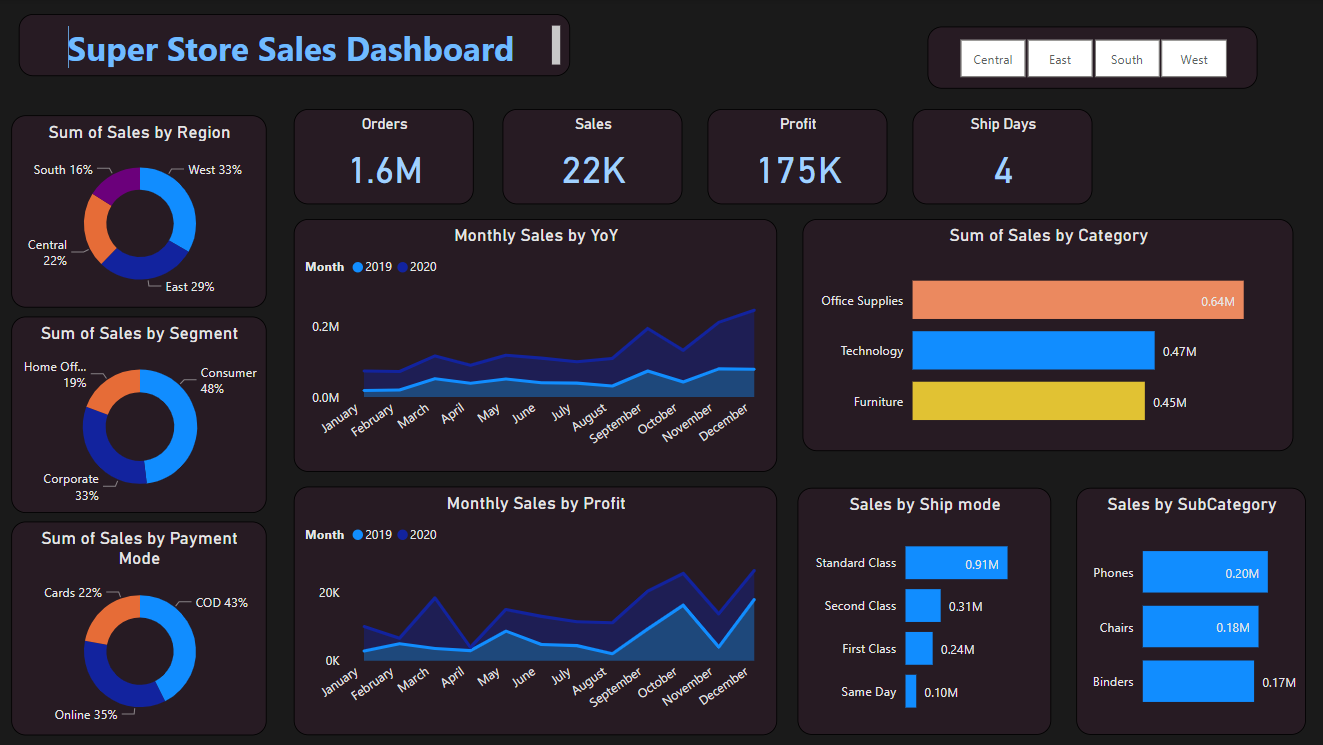

What the dashboard file says about the page in this screenshot:
{"tool":"powerbi","page":{"name":"Page 1","canvas":[1280,720],"ordinal":0},"visuals":[{"type":"clusteredBarChart","title":"Sales by SubCategory","fields":{"Category":["SuperStore_Sales_Dataset.Sub-Category"],"Y":["Sum(SuperStore_Sales_Dataset.Sales)"]},"box":[1038.4,471.6,221.9,238.8],"z":0},{"type":"clusteredBarChart","title":"Sales by Ship mode","fields":{"Category":["SuperStore_Sales_Dataset.Ship Mode"],"Y":["Sum(SuperStore_Sales_Dataset.Sales)"]},"box":[769.4,471.6,244.8,238.8],"z":1000},{"type":"stackedAreaChart","title":" Monthly Sales by YoY","fields":{"Y":["Sum(SuperStore_Sales_Dataset.Sales)"],"Category":["SuperStore_Sales_Dataset.Order Date.Variation.Date Hierarchy.Month","SuperStore_Sales_Dataset.Order Date.Variation.Date Hierarchy.Day"],"Series":["SuperStore_Sales_Dataset.Order Date.Variation.Date Hierarchy.Year"]},"box":[283.4,212.3,466.7,243.6],"z":2000},{"type":"stackedAreaChart","title":" Monthly Sales by Profit","fields":{"Category":["SuperStore_Sales_Dataset.Order Date.Variation.Date Hierarchy.Month","SuperStore_Sales_Dataset.Order Date.Variation.Date Hierarchy.Day"],"Series":["SuperStore_Sales_Dataset.Order Date.Variation.Date Hierarchy.Year"],"Y":["Sum(SuperStore_Sales_Dataset.Profit)"]},"box":[283.4,470.4,466.7,240],"z":3000},{"type":"clusteredBarChart","fields":{"Category":["SuperStore_Sales_Dataset.Category"],"Y":["Sum(SuperStore_Sales_Dataset.Sales)"]},"box":[774.3,212.3,474,224.3],"z":4000},{"type":"donutChart","fields":{"Category":["SuperStore_Sales_Dataset.Segment"],"Y":["Sum(SuperStore_Sales_Dataset.Sales)"]},"box":[10.9,306.3,246,189.3],"z":5000},{"type":"donutChart","fields":{"Category":["SuperStore_Sales_Dataset.Payment Mode"],"Y":["Sum(SuperStore_Sales_Dataset.Sales)"]},"box":[10.9,504.1,246,206.2],"z":6000},{"type":"slicer","fields":{"Values":["SuperStore_Sales_Dataset.Region"]},"box":[894.9,26.5,318.4,60.3],"z":7000},{"type":"textbox","box":[18.1,14.5,531.9,60.3],"z":8000},{"type":"card","title":"Orders","fields":{"Values":["Sum(SuperStore_Sales_Dataset.Sales)"]},"box":[283.4,106.1,173.7,91.7],"z":9000},{"type":"card","title":"Sales","fields":{"Values":["Sum(SuperStore_Sales_Dataset.Quantity)"]},"box":[484.8,106.1,173.7,91.7],"z":10000},{"type":"card","title":"Profit","fields":{"Values":["Sum(SuperStore_Sales_Dataset.Profit)"]},"box":[682.6,106.1,173.7,91.7],"z":11000},{"type":"card","title":"Ship Days","fields":{"Values":["Avg(SuperStore_Sales_Dataset.AvgDelivery)"]},"box":[880.4,106.1,173.7,91.7],"z":12000},{"type":"donutChart","fields":{"Category":["SuperStore_Sales_Dataset.Region","SuperStore_Sales_Dataset.Segment"],"Y":["Sum(SuperStore_Sales_Dataset.Sales)"]},"box":[10.9,112.2,246,185.7],"z":13000}]}

Visuals, with their boxes in screenshot pixels (x1, y1, x2, y2), scaled from the page's 1280x720 canvas onto the 1323x745 screenshot:
"Sales by SubCategory" clusteredBarChart: 1073, 488, 1303, 735
"Sales by Ship mode" clusteredBarChart: 795, 488, 1048, 735
" Monthly Sales by YoY" stackedAreaChart: 293, 220, 775, 472
" Monthly Sales by Profit" stackedAreaChart: 293, 487, 775, 735
clusteredBarChart - SuperStore_Sales_Dataset.Category x Sum(SuperStore_Sales_Dataset.Sales): 800, 220, 1290, 452
donutChart - SuperStore_Sales_Dataset.Segment x Sum(SuperStore_Sales_Dataset.Sales): 11, 317, 266, 513
donutChart - SuperStore_Sales_Dataset.Payment Mode x Sum(SuperStore_Sales_Dataset.Sales): 11, 522, 266, 735
slicer - SuperStore_Sales_Dataset.Region: 925, 27, 1254, 90
textbox: 19, 15, 568, 77
"Orders" card: 293, 110, 472, 205
"Sales" card: 501, 110, 681, 205
"Profit" card: 706, 110, 885, 205
"Ship Days" card: 910, 110, 1090, 205
donutChart - SuperStore_Sales_Dataset.Region x SuperStore_Sales_Dataset.Segment: 11, 116, 266, 308
